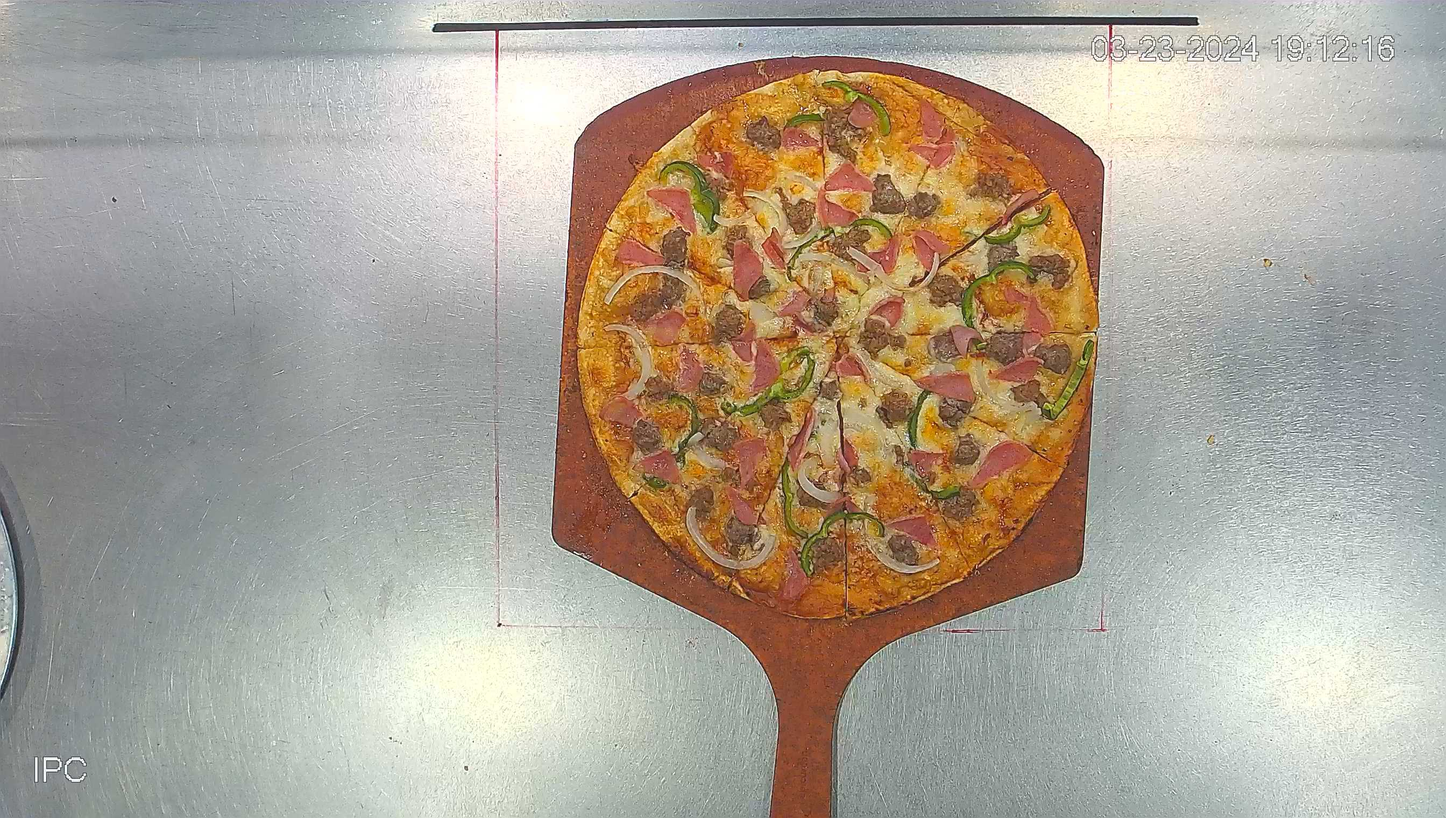hawaiian: (574, 66, 1100, 619)
